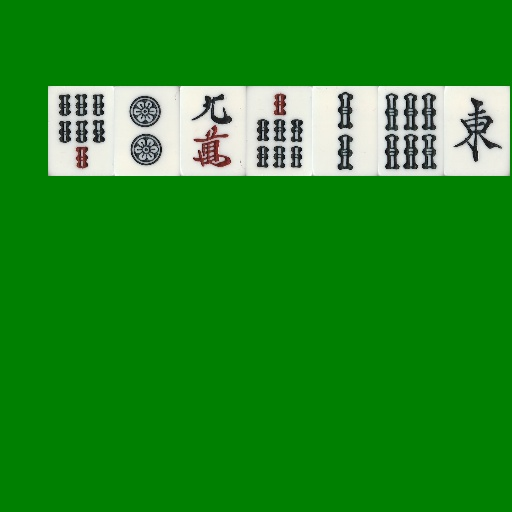2p: (114, 86, 180, 176)
2s: (312, 86, 378, 176)
6s: (378, 86, 444, 176)
7s: (48, 86, 114, 176), (246, 86, 312, 176)
9m: (180, 86, 246, 176)
east: (444, 86, 510, 176)
